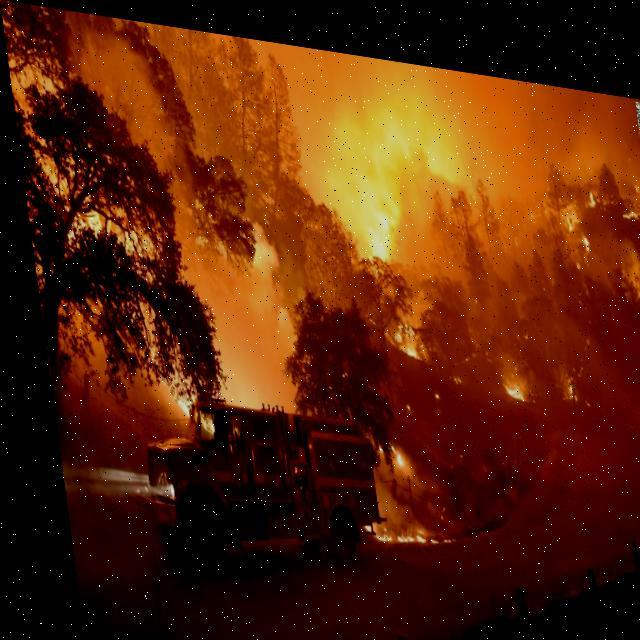Fire: (325, 98, 492, 354), (527, 157, 639, 299)
